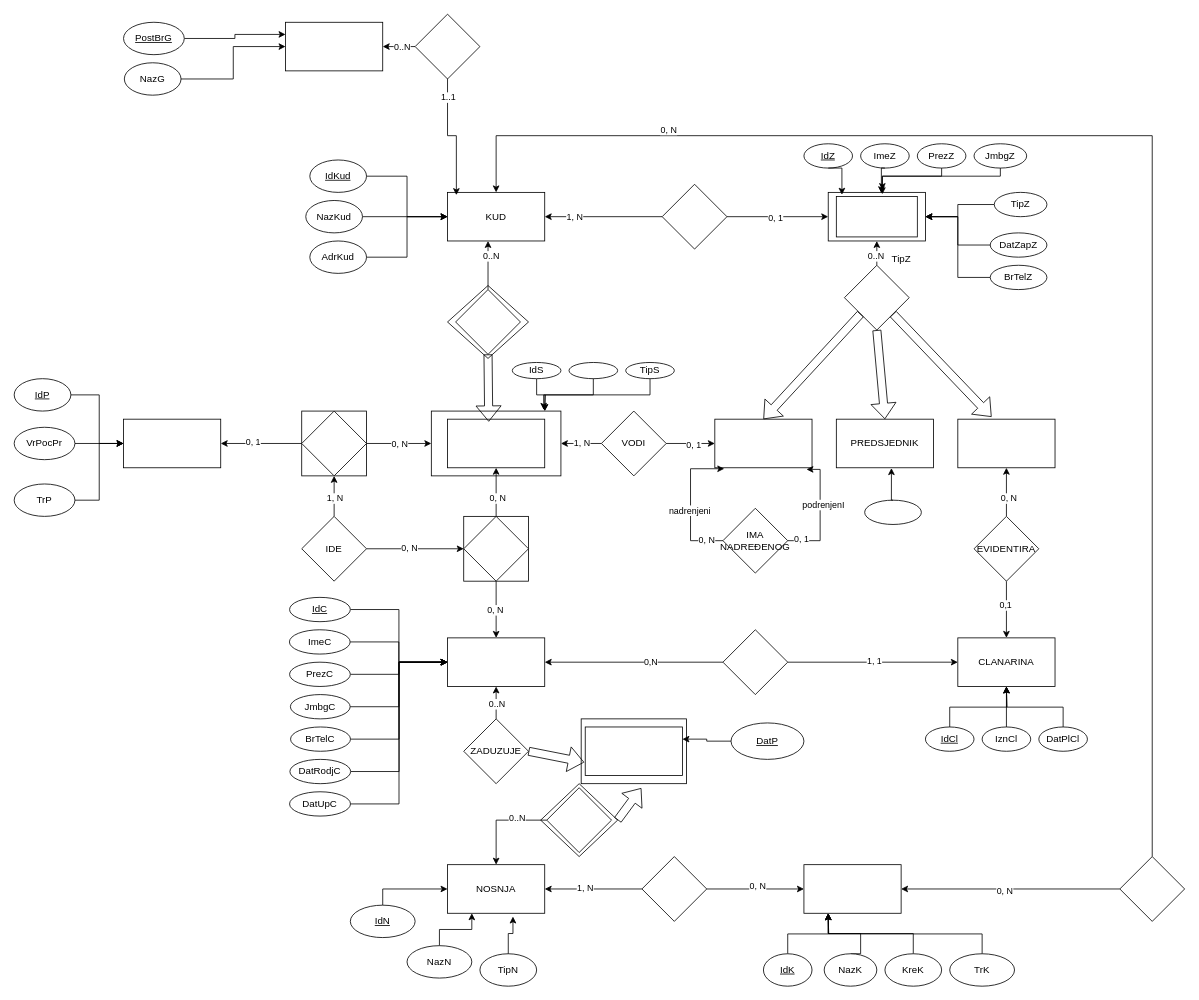
The diagram is 1199 pixels wide and 1000 high, and some of its shapes have lost their labels. Here are the shapes that lost their labels. From the top down, the centre of each, then its label:
At point 334,46: "GRAD".
At point 447,46: "NALAZI SE".
At point 694,216: "RADI".
At point 876,216: "ZAPOSLENI".
At point 876,297: "IS-A".
At point 487,321: "SADRZI".
At point 593,370: "NazS".
At point 172,443: "PROBA".
At point 334,443: "ODRZAVA SE".
At point 496,443: "SEKCIJA".
At point 763,443: "KOREOGRAF".
At point 1006,443: "SEKRETAR".
At point 892,511: "TrajMan".
At point 496,548: "JE".
At point 496,661: "CLAN".
At point 755,662: "PLACA".
At point 633,751: "POZAJMICA".
At point 579,820: "ZA".
At point 674,888: "PRIPADA".
At point 852,888: "KOREOGRAFIJA".
At point 1152,888: "POSJEDUJE".
